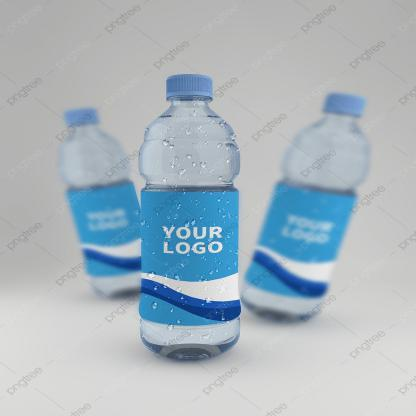bottle: (46, 101, 171, 306), (112, 0, 228, 159), (235, 0, 379, 21)
